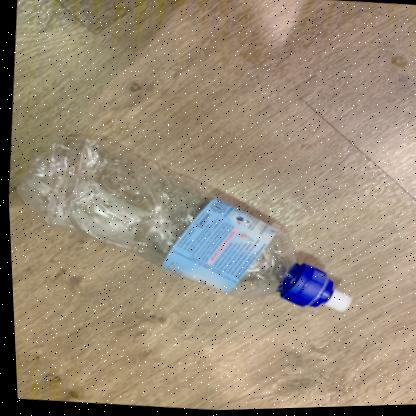Plastic: (16, 138, 349, 313)
